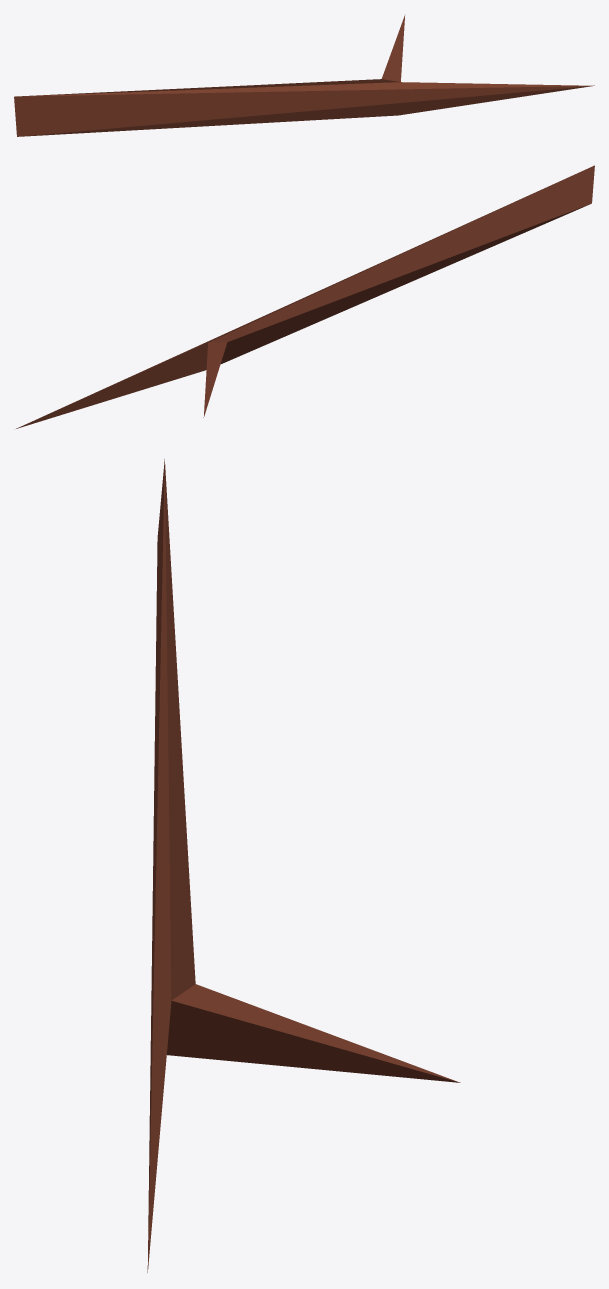
The model's file is pine_branch_type_1_LOD1.fbx.
3 renders of one model, top to bottom at view 1: azimuth 30°, elevation 25°; view 2: azimuth 210°, elevation 25°; view 3: azimuth 270°, elevation 25°, orthographic. The views are drawn at different scales.
Parts seen in each view (by area): view 1: Circle.011; view 2: Circle.011; view 3: Circle.011.
Part boxes in pixels (x1,y1,x2,y2): Circle.011: (14,14,594,136); Circle.011: (16,165,594,428); Circle.011: (147,459,460,1272).
Bounding box in the file's own units: 298 × 62.64 × 70.18.
